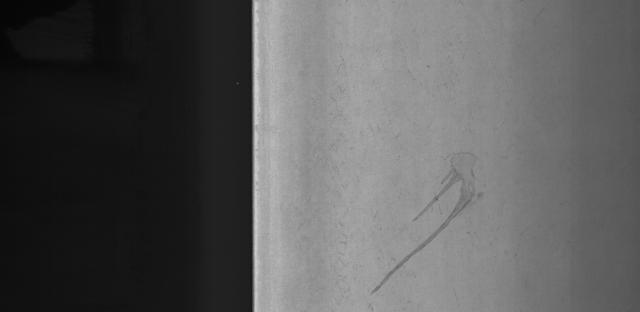water_spot: (363, 143, 506, 298)
